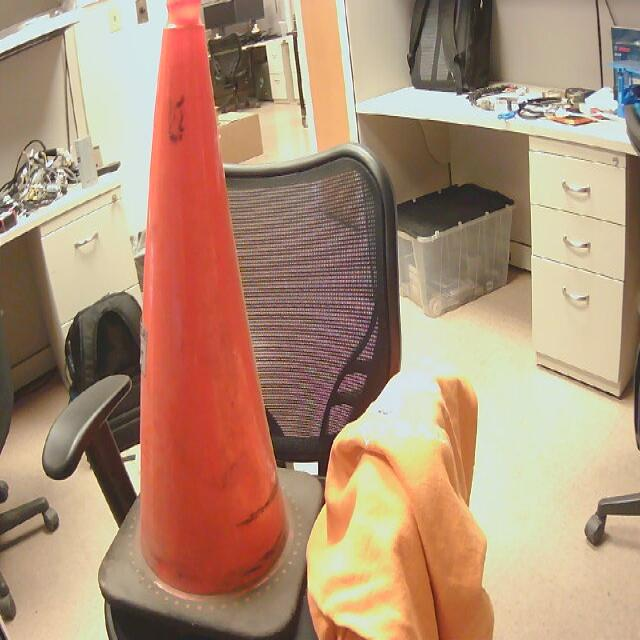traffic cone: (105, 1, 322, 640)
